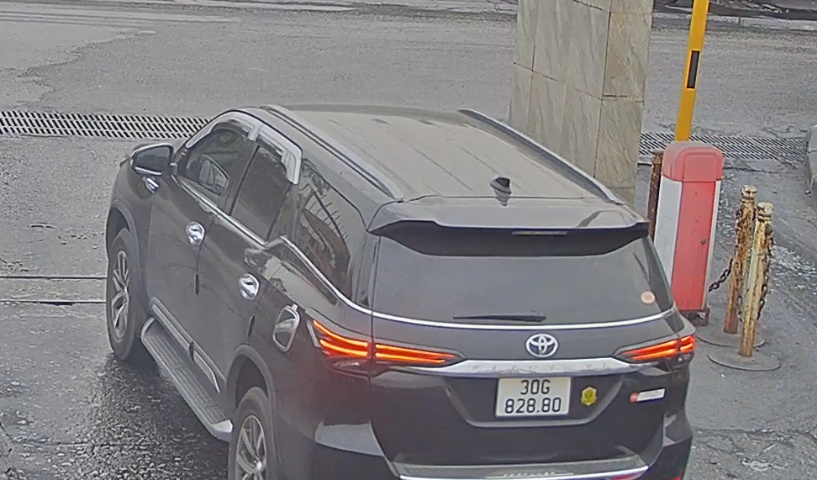vehicle plate: (494, 366, 580, 420)
